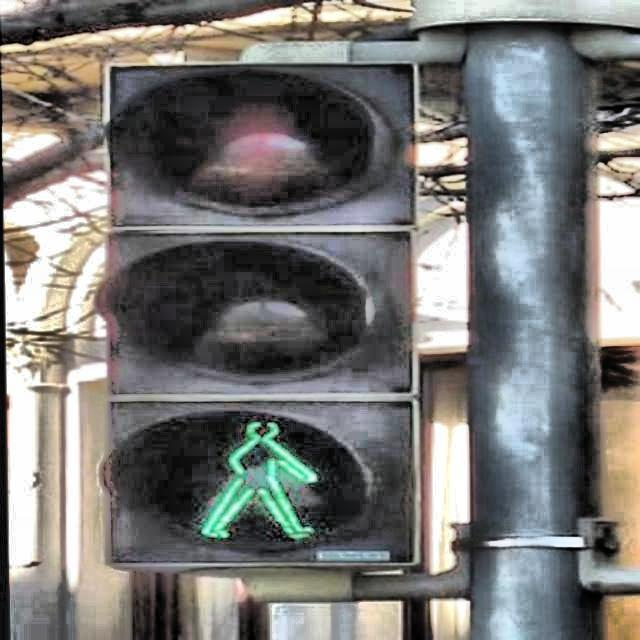semaforo pedestre: (74, 43, 450, 600), (122, 410, 380, 548)
